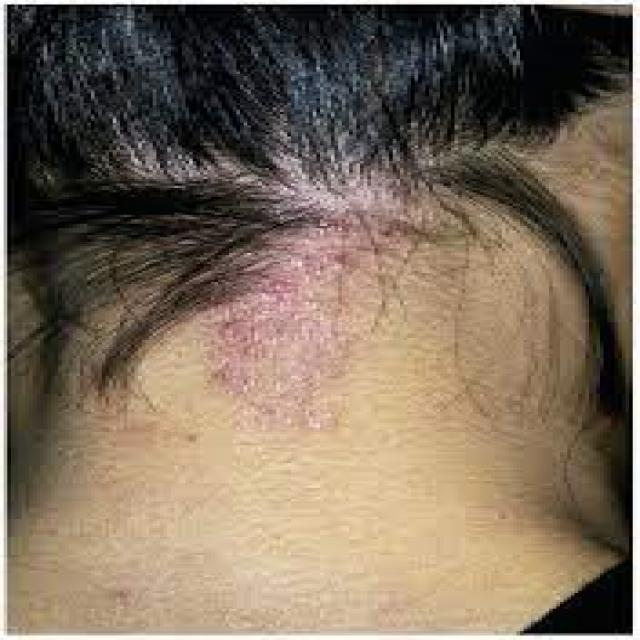Eczema: (214, 213, 390, 441)
